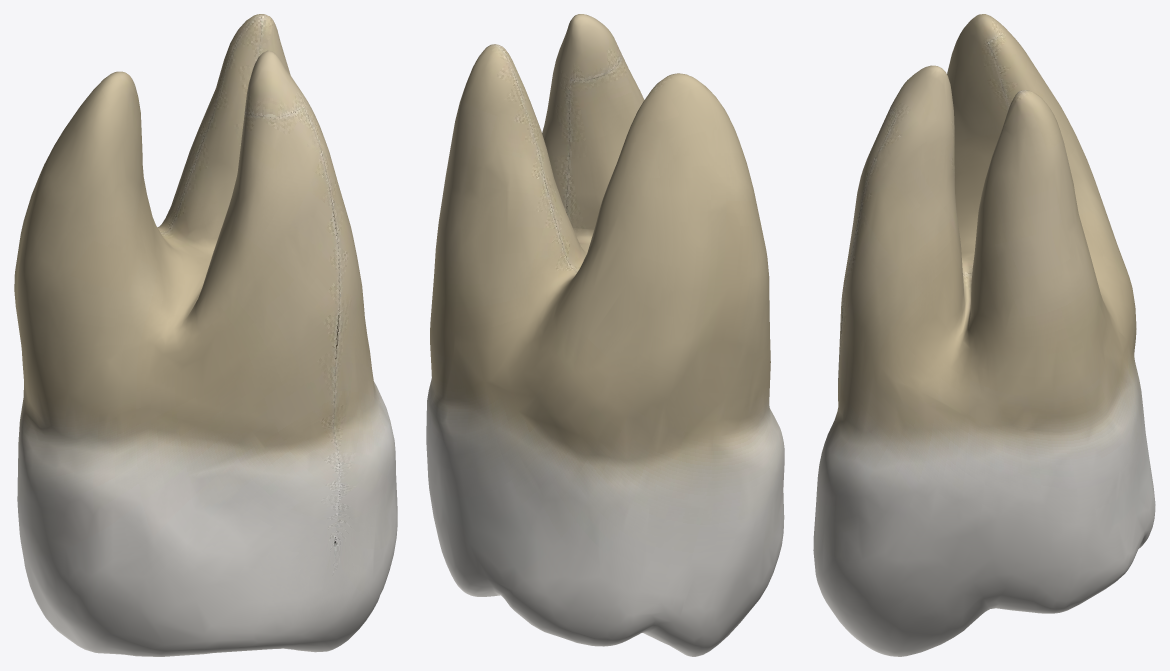
Rendered from maxillary_second_molar.glb.
3 views of the same model, side by side, from view 1: azimuth 30°, elevation 25°; view 2: azimuth 150°, elevation 25°; view 3: azimuth 270°, elevation 25° (orthographic). The views are drawn at different scales.
Parts seen in each view (by area): view 1: Object_2; view 2: Object_2; view 3: Object_2.
Part boxes in pixels (<box>): Object_2: <box>14,14,397,656</box>; Object_2: <box>426,14,784,656</box>; Object_2: <box>813,14,1155,656</box>.
Size of the model in its own units: 0.9302 by 1.58 by 0.8567.
Materials: 1 (1 with a texture image).
